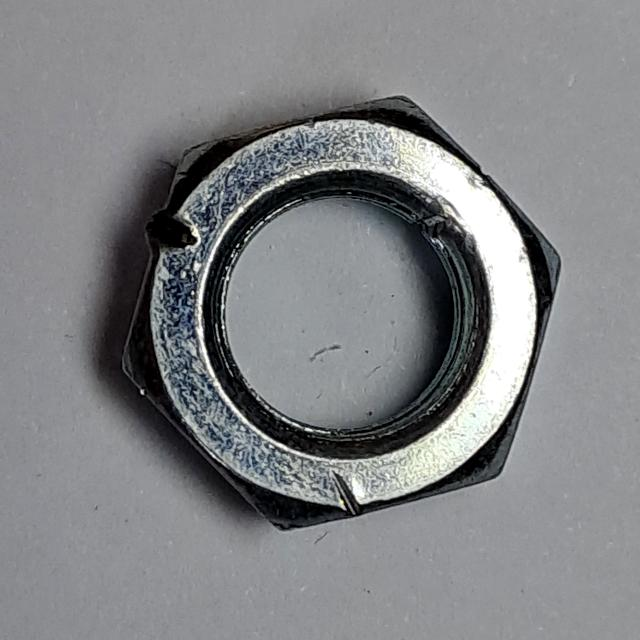Scratches: (104, 87, 572, 545)
